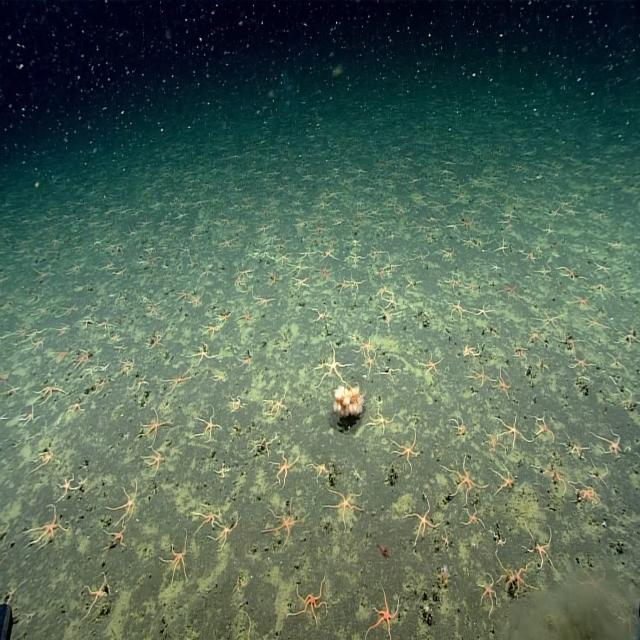brittle-stars: (29, 506, 69, 548), (523, 522, 556, 570), (292, 579, 326, 625), (498, 556, 536, 597), (369, 588, 399, 638), (312, 347, 350, 385), (446, 459, 481, 500), (268, 504, 300, 546), (326, 490, 364, 525), (162, 538, 190, 582), (410, 500, 438, 542), (272, 449, 301, 487), (84, 575, 111, 613), (395, 430, 422, 466), (112, 484, 138, 520), (496, 415, 524, 448), (141, 409, 168, 443), (211, 517, 238, 551), (580, 564, 606, 598), (594, 429, 622, 458), (266, 390, 292, 420), (479, 572, 499, 610), (198, 408, 221, 441), (195, 502, 221, 530), (563, 435, 588, 464), (492, 466, 516, 496), (165, 368, 192, 394), (103, 521, 128, 549), (36, 380, 64, 403), (2, 577, 26, 603), (56, 472, 78, 500), (34, 444, 56, 472), (612, 389, 640, 411), (248, 434, 276, 456), (536, 308, 561, 332), (144, 447, 166, 474), (615, 606, 636, 634), (371, 408, 394, 432), (535, 416, 554, 445), (470, 365, 492, 390), (192, 344, 216, 366), (584, 313, 607, 335), (618, 328, 640, 351), (490, 530, 508, 558), (578, 482, 597, 508), (310, 458, 332, 480), (568, 290, 592, 310), (15, 329, 47, 344), (72, 348, 93, 370), (532, 353, 552, 376), (495, 372, 512, 398), (421, 352, 441, 374), (33, 264, 56, 283), (463, 508, 482, 530), (570, 353, 592, 372), (525, 326, 544, 348), (20, 406, 39, 428), (560, 265, 582, 284), (382, 360, 401, 382), (485, 430, 503, 453), (242, 606, 254, 640), (500, 280, 520, 300), (591, 279, 611, 299), (450, 415, 467, 438), (0, 328, 26, 343), (313, 303, 333, 322), (51, 347, 71, 366), (444, 272, 463, 291), (60, 301, 79, 320), (27, 336, 47, 354), (358, 335, 375, 356), (462, 341, 480, 360), (475, 304, 494, 322), (69, 396, 86, 416), (115, 362, 135, 379), (147, 332, 163, 353), (348, 274, 364, 295), (292, 274, 310, 292), (3, 382, 21, 400), (131, 375, 148, 394), (236, 306, 252, 326), (450, 300, 466, 320), (231, 392, 247, 412), (202, 322, 222, 338), (522, 246, 538, 266), (346, 250, 364, 267), (238, 264, 256, 281), (377, 307, 395, 324), (362, 353, 378, 372), (257, 292, 276, 308), (31, 306, 51, 321), (238, 351, 255, 368), (406, 274, 422, 292), (92, 372, 106, 392), (536, 265, 552, 282), (368, 243, 384, 260), (442, 528, 454, 550), (301, 246, 317, 262), (464, 278, 480, 294), (216, 310, 232, 326), (290, 262, 307, 277), (407, 251, 430, 262), (495, 238, 509, 256), (385, 292, 399, 310), (214, 463, 228, 481), (96, 262, 115, 275), (276, 250, 291, 266), (81, 314, 97, 329), (268, 270, 282, 287), (99, 316, 113, 333), (146, 302, 160, 319), (51, 325, 68, 339), (337, 276, 350, 294), (593, 263, 612, 275), (318, 264, 332, 280), (188, 292, 202, 308), (459, 215, 473, 231), (441, 246, 455, 262), (220, 235, 233, 252), (210, 374, 228, 386), (66, 264, 84, 276), (321, 248, 336, 262), (0, 548, 7, 578), (188, 229, 203, 243), (501, 209, 517, 222), (0, 366, 9, 388), (460, 235, 474, 249), (139, 216, 153, 230), (312, 222, 326, 236), (378, 283, 391, 298), (550, 207, 564, 220), (146, 255, 160, 268), (0, 410, 9, 430), (376, 267, 388, 281), (116, 342, 128, 356), (114, 265, 126, 279), (515, 343, 526, 358), (445, 222, 460, 233), (110, 332, 121, 346), (490, 262, 502, 274), (98, 363, 111, 371), (178, 291, 191, 299)
